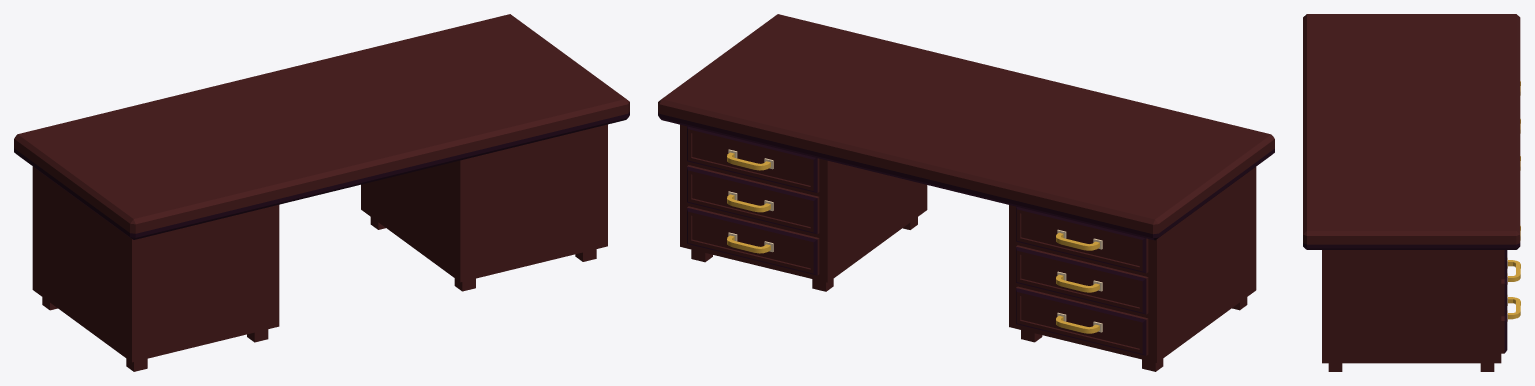
The model's file is Desk.fbx.
The picture shows the model from 3 angles, left to right: view 1: azimuth 30°, elevation 25°; view 2: azimuth 150°, elevation 25°; view 3: azimuth 270°, elevation 25°; orthographic projection. The views are drawn at different scales.
Parts seen in each view (by area): view 1: Desk; view 2: Desk; view 3: Desk.
Part boxes in pixels (x1=…): Desk: x1=14, y1=14, x2=629, y2=371; Desk: x1=658, y1=14, x2=1274, y2=371; Desk: x1=1303, y1=14, x2=1520, y2=371.
Size of the model in its own units: 314 by 98.73 by 131.
